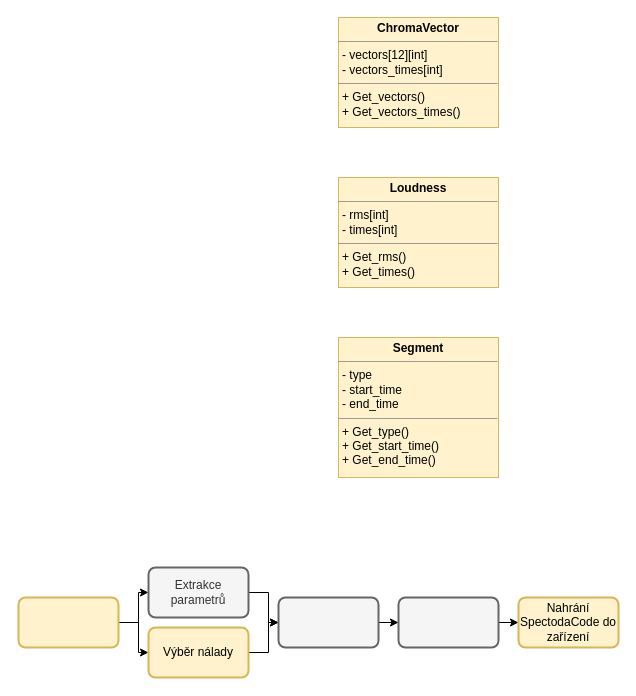
Some shapes in this 636 by 696 pixel diagram are drawn without their labels. The centre of each missing label's shape, as x and y in pixels:
"Proces generování animace" belongs at [328,622].
"Vložení nahrávky" belongs at [68,622].
"Zobrazení SpectodaCode" belongs at [448,622].
